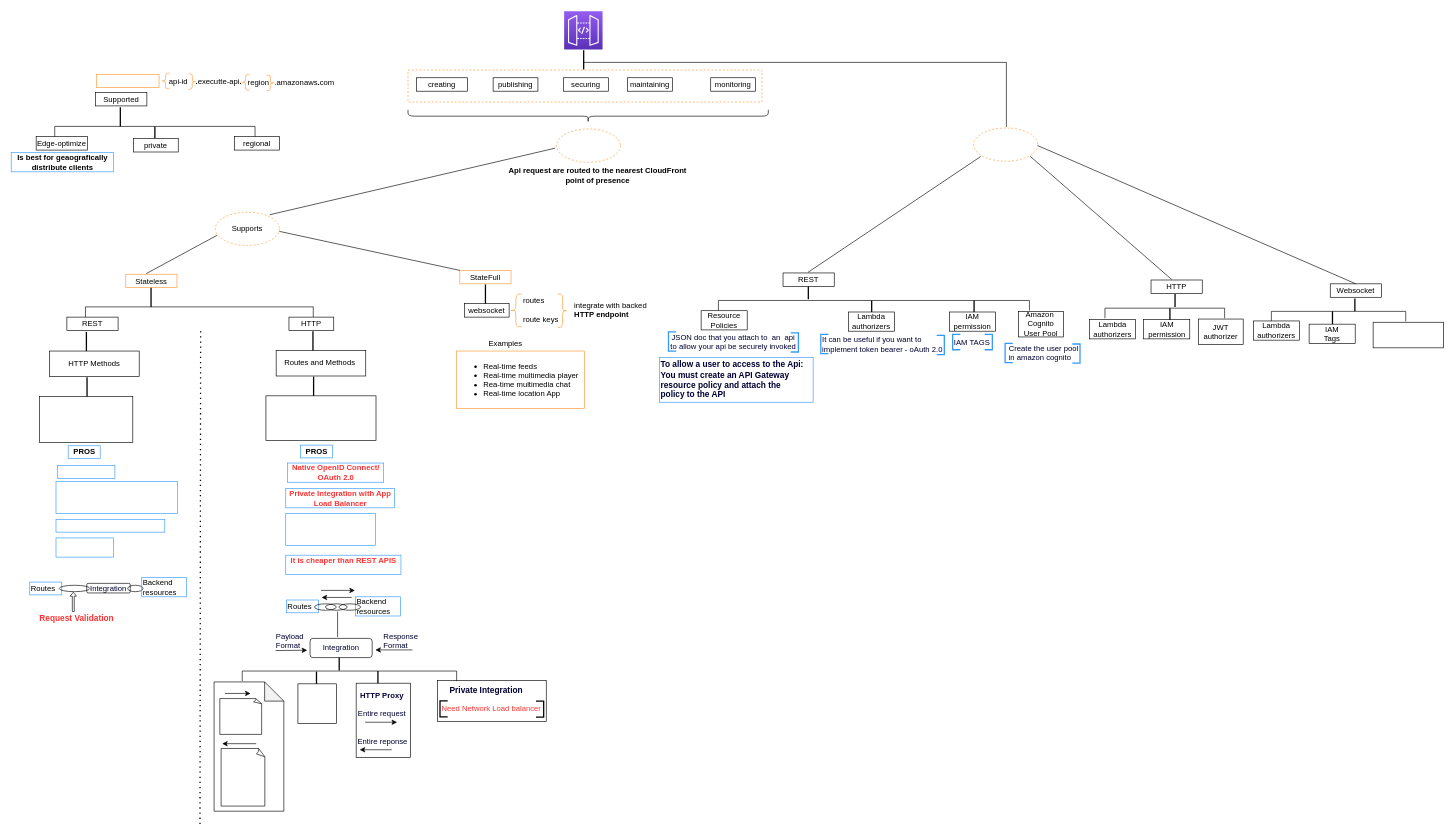
Image size: 1455x836. Some labels were removed from this diagram. Each missing label, with the box of its shape:
Access Control: (973, 127, 1038, 161)
Api Caching: (57, 465, 115, 478)
Apis: (556, 128, 620, 162)
Automatic Stage Automatic Route Automatic Deployment: (285, 513, 375, 546)
AWS Service Integration: (297, 683, 336, 724)
Canary release deployment: (55, 519, 165, 532)
Execution logs AWS - XRay: (55, 537, 114, 557)
HTTP Endpoint: (96, 74, 159, 87)
Integrated with Backend HTTP endpoints Integrated with Lamda functions: (265, 395, 376, 441)
Lambda func Response Format JSON: (220, 748, 265, 806)
Lambda Function AWS Services HTTP Endpoint: (39, 396, 133, 443)
Payload Format JSON: (219, 698, 262, 734)
Request body transformation Request/Response Validation Custom gateway responses: (55, 481, 178, 514)
Standard AWS IAM roles and policies: (1372, 322, 1444, 348)
